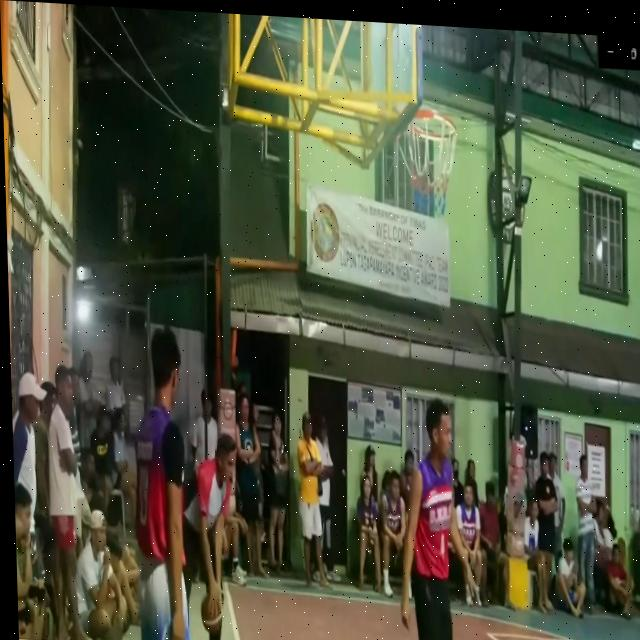basketball: (201, 583, 224, 637)
hoop: (399, 97, 462, 230)
